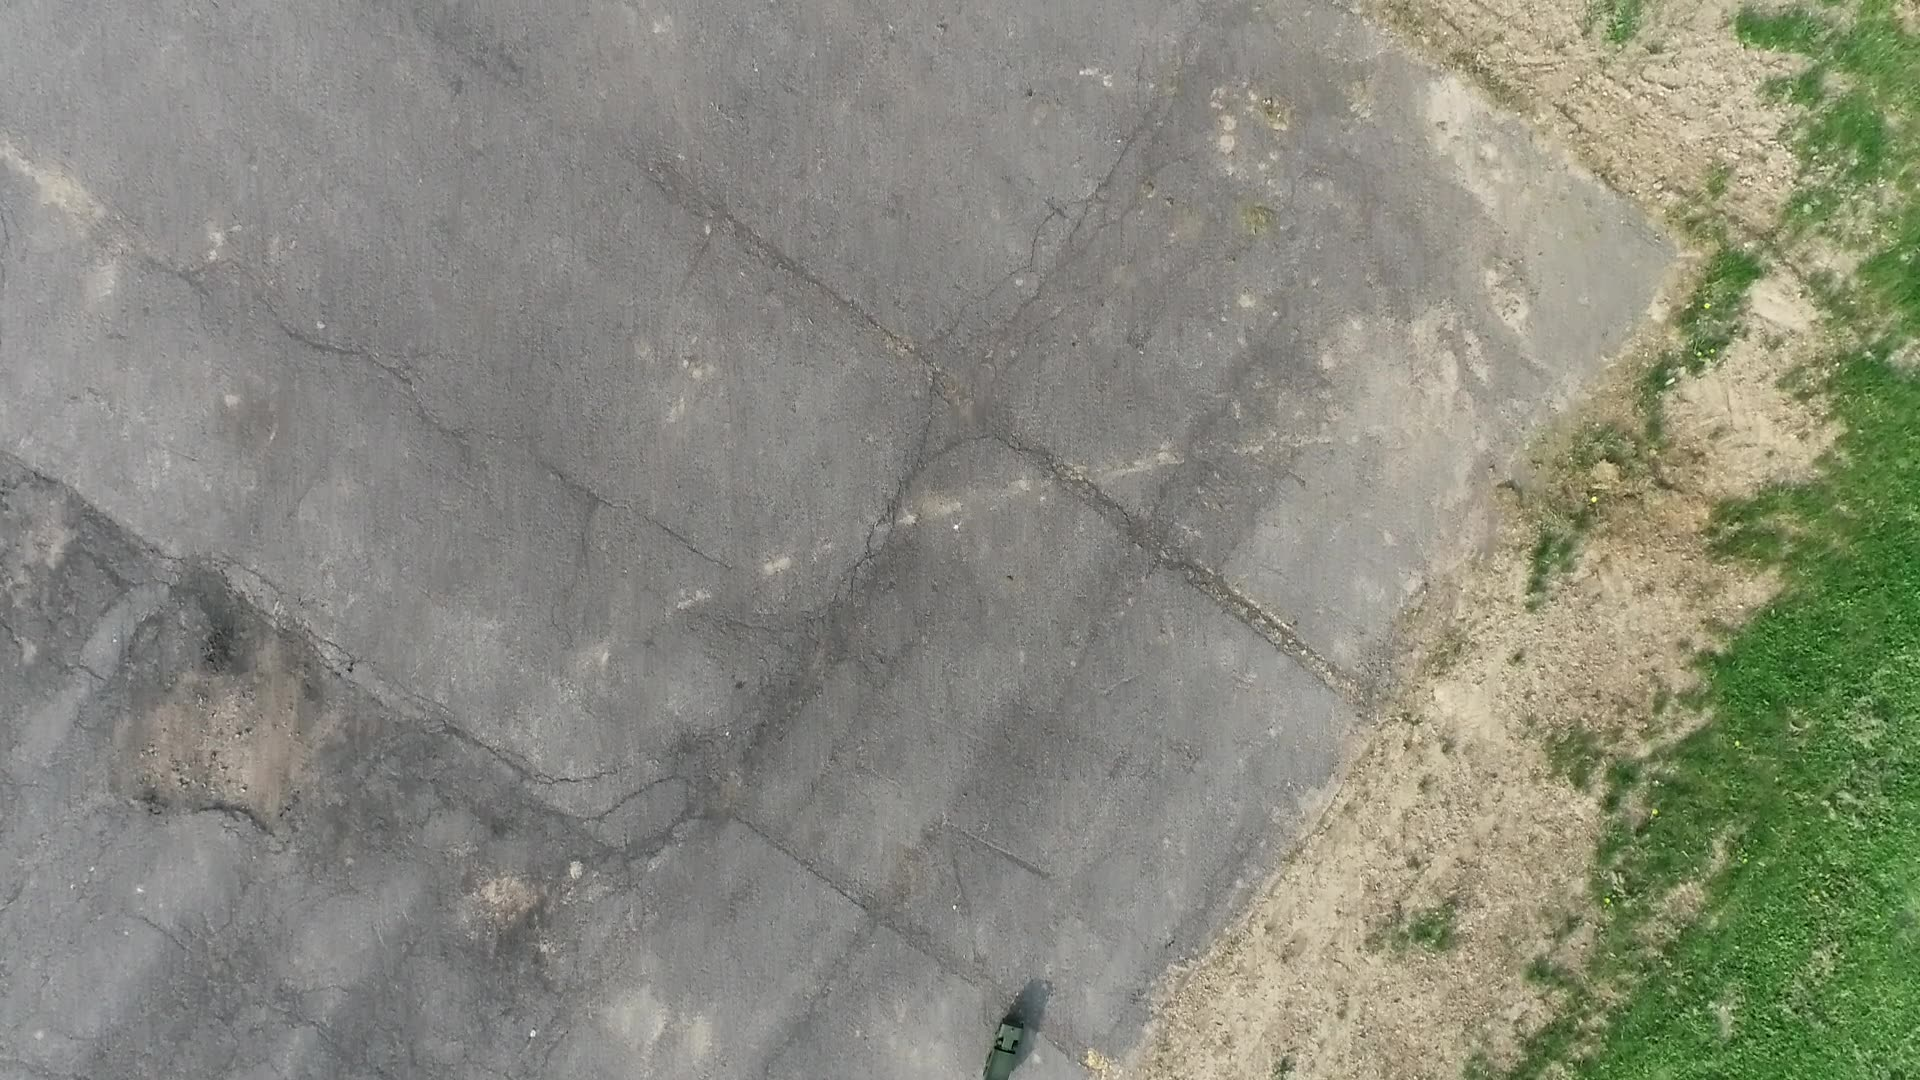transporter9: (977, 1011, 1029, 1080)
